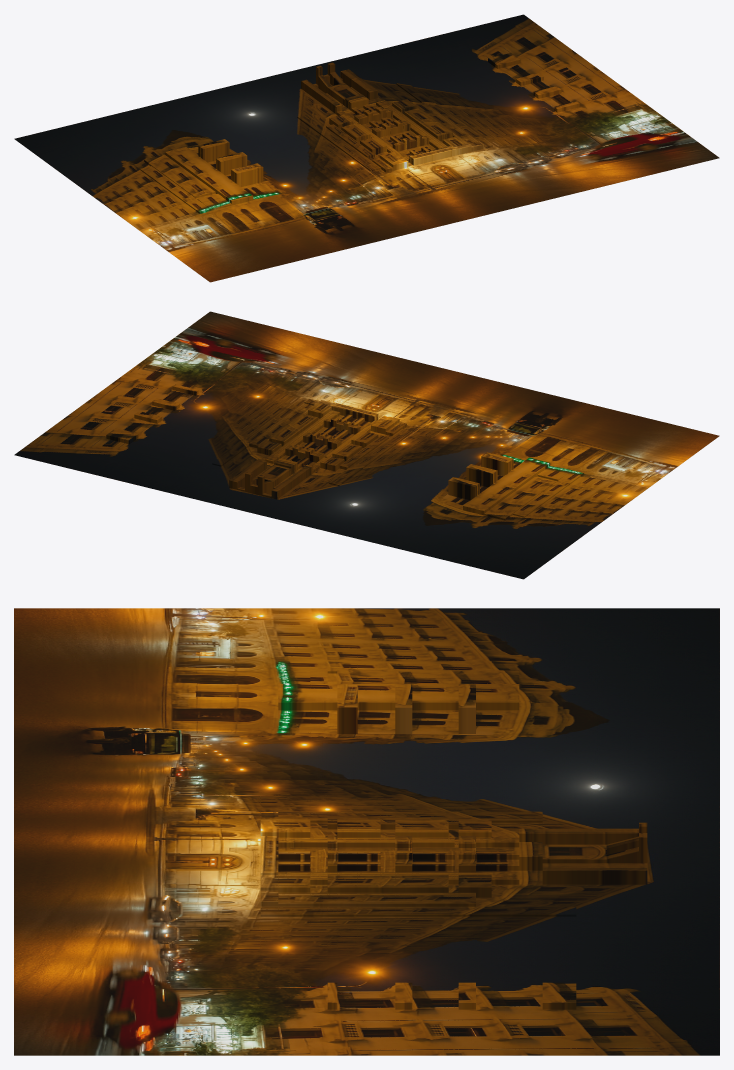
File: 2d to 3d_tallat harbImage.fbx
3 renders of one model, top to bottom at view 1: azimuth 30°, elevation 25°; view 2: azimuth 150°, elevation 25°; view 3: azimuth 270°, elevation 25°, orthographic. The views are drawn at different scales.
Parts seen in each view (by area): view 1: Plane; view 2: Plane; view 3: Plane.
Boxes of the visible parts, x1=… form: Plane: x1=14, y1=14, x2=719, y2=282; Plane: x1=14, y1=311, x2=719, y2=579; Plane: x1=14, y1=608, x2=719, y2=1055.
Bounding box in the file's own units: 1536 × 70.33 × 1024.
1 material, 1 textured.
